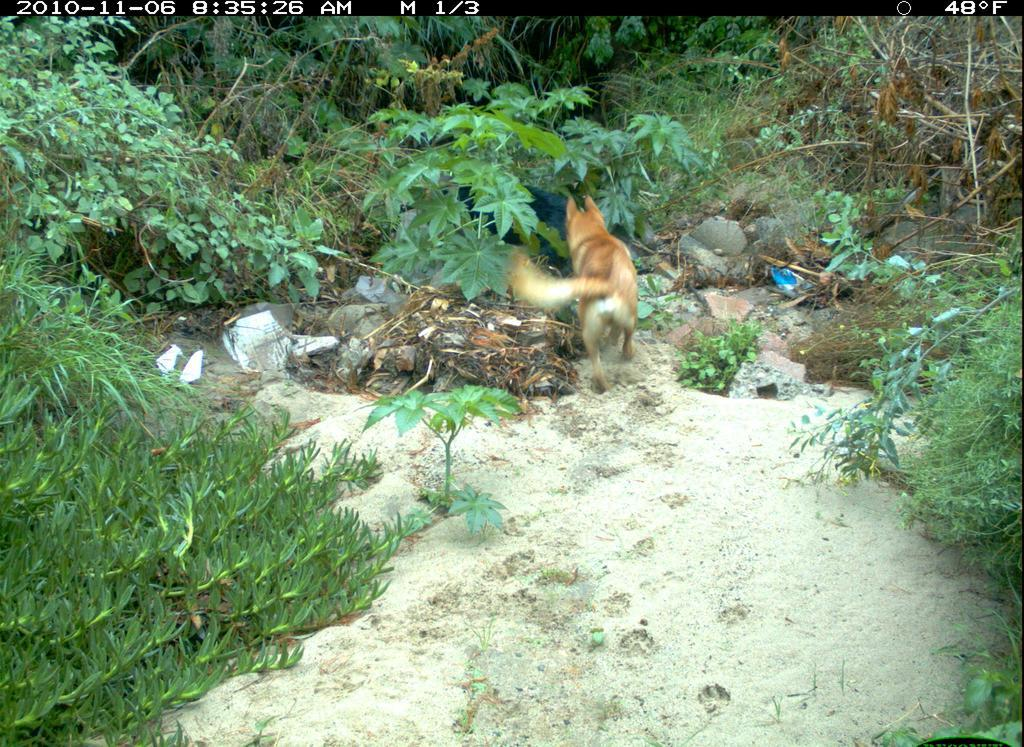dog: (506, 189, 655, 395)
